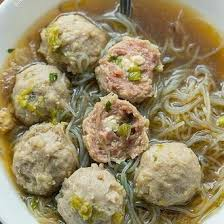bakso: (18, 11, 197, 219)
